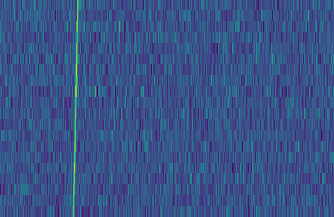signal: (66, 0, 79, 217)
